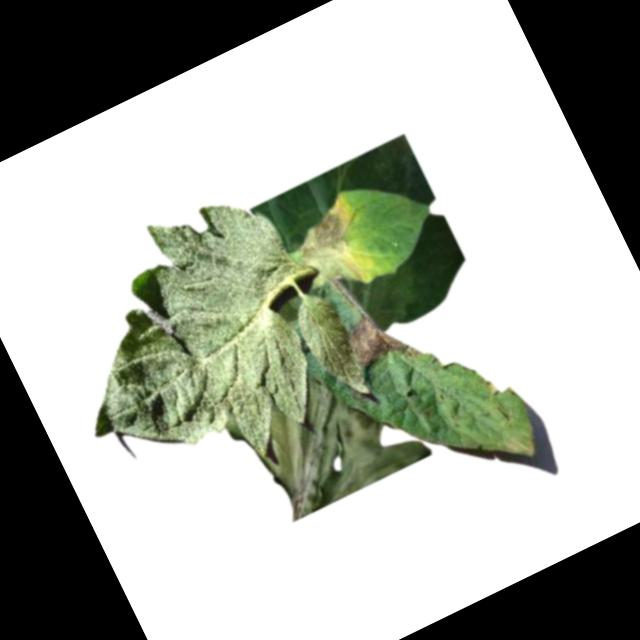Late_blight: (222, 345, 433, 531), (284, 192, 383, 301), (334, 302, 410, 375), (498, 427, 539, 465)
